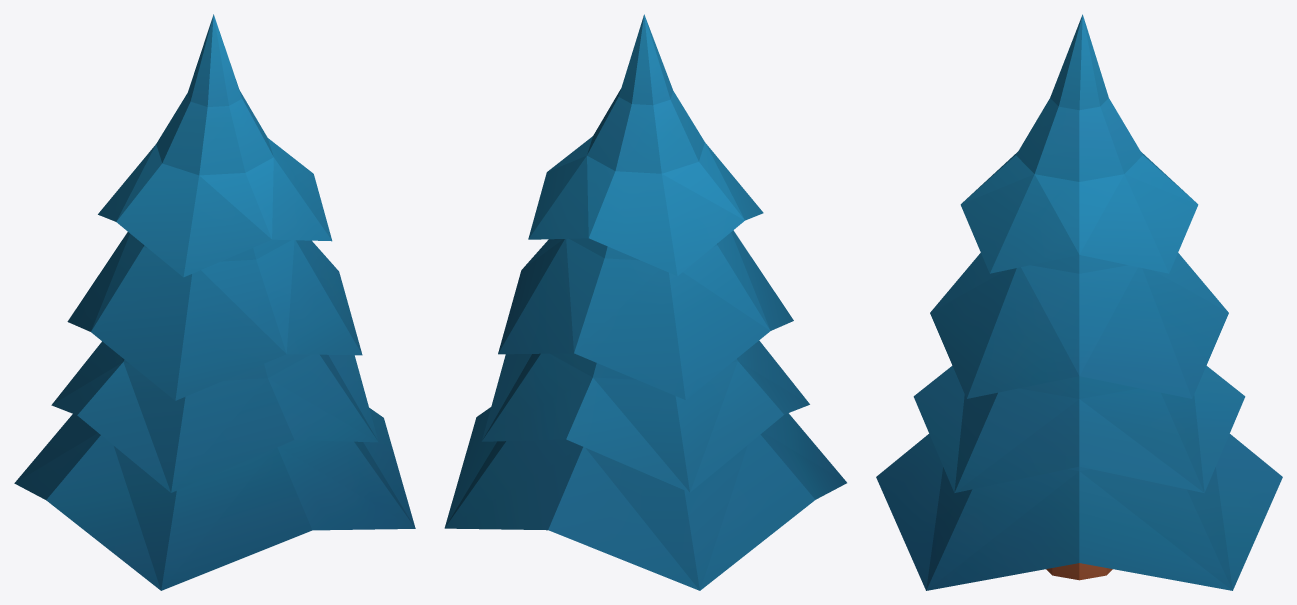
The model's file is BlueTree.fbx.
3 views of the same model, side by side, from view 1: azimuth 30°, elevation 25°; view 2: azimuth 150°, elevation 25°; view 3: azimuth 270°, elevation 25° (orthographic). The views are drawn at different scales.
Visible parts, largest first — view 1: BlueTree; view 2: BlueTree; view 3: BlueTree.
Boxes of the visible parts, <box> form: BlueTree: <box>14,14,415,590</box>; BlueTree: <box>444,14,846,590</box>; BlueTree: <box>876,14,1282,590</box>.
Bounding box in the file's own units: 463 × 691 × 463.
